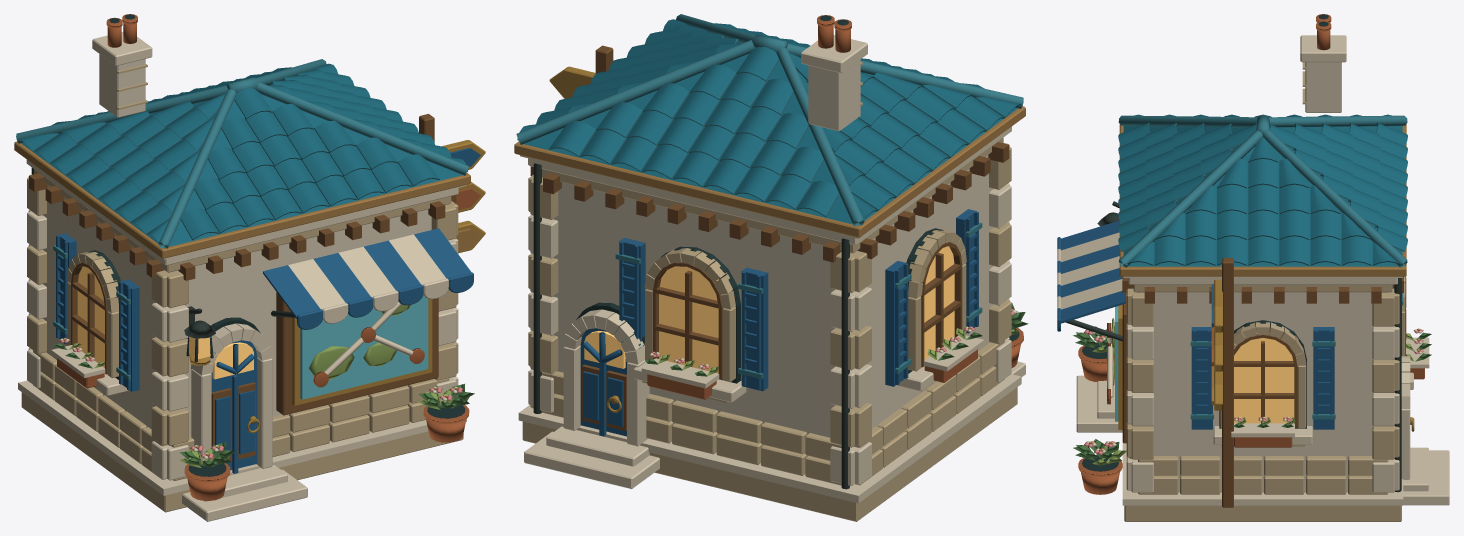
3 renders of one model, left to right at view 1: azimuth 30°, elevation 25°; view 2: azimuth 150°, elevation 25°; view 3: azimuth 270°, elevation 25°, orthographic. The views are drawn at different scales.
Visible parts, largest first — view 1: harbor_junction_hub_geometry; view 2: harbor_junction_hub_geometry; view 3: harbor_junction_hub_geometry.
Part boxes in pixels (x1,y1,x2,y2): harbor_junction_hub_geometry: [14, 14, 485, 521]; harbor_junction_hub_geometry: [514, 14, 1028, 521]; harbor_junction_hub_geometry: [1057, 14, 1449, 521].
Bounding box in the file's own units: 1.04 × 1.02 × 0.9257.
